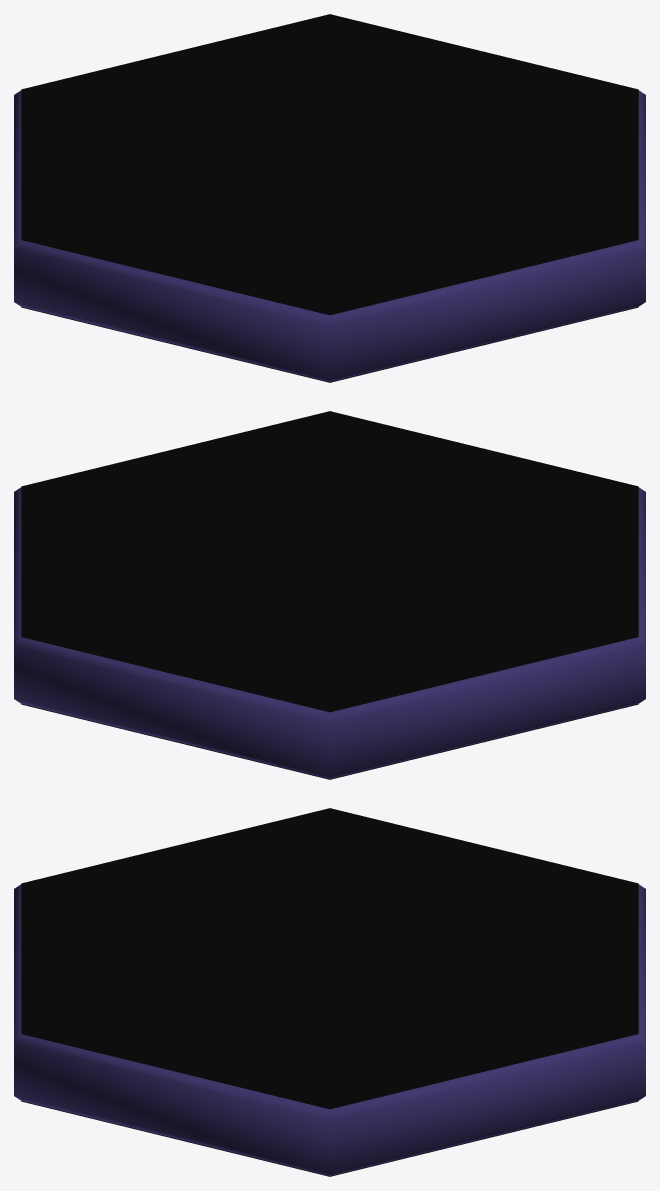
The model's file is ModifierEmblem.FBX.
3 renders of one model, top to bottom at view 1: azimuth 30°, elevation 25°; view 2: azimuth 150°, elevation 25°; view 3: azimuth 270°, elevation 25°, orthographic.
Parts seen in each view (by area): view 1: ModifierEmblem; view 2: ModifierEmblem; view 3: ModifierEmblem.
Boxes of the visible parts, x1,y1,x2,y2 form: ModifierEmblem: (14,14,645,382); ModifierEmblem: (14,411,645,779); ModifierEmblem: (14,808,645,1176).
Size of the model in its own units: 1 by 0.102 by 0.866.
